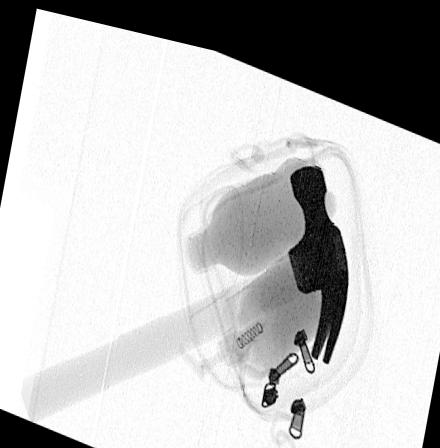Hammer: (19, 149, 348, 420)
